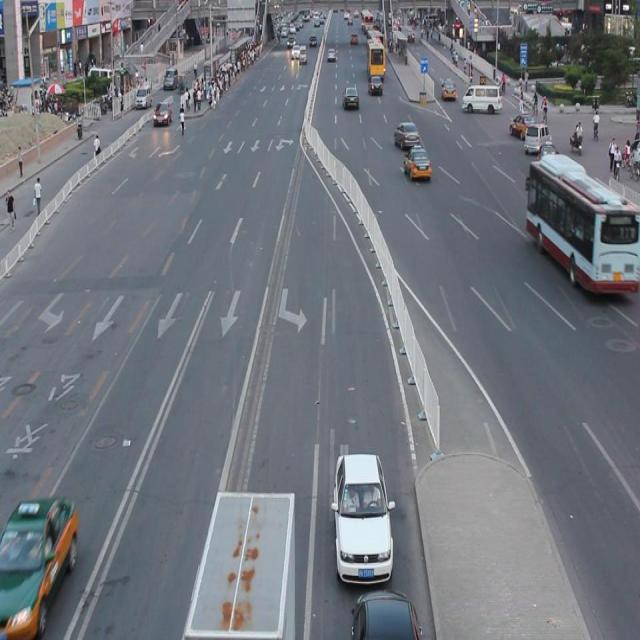bus: (183, 488, 295, 640)
car: (1, 496, 79, 631), (332, 449, 393, 584), (350, 586, 420, 640)
van: (528, 159, 640, 295)
